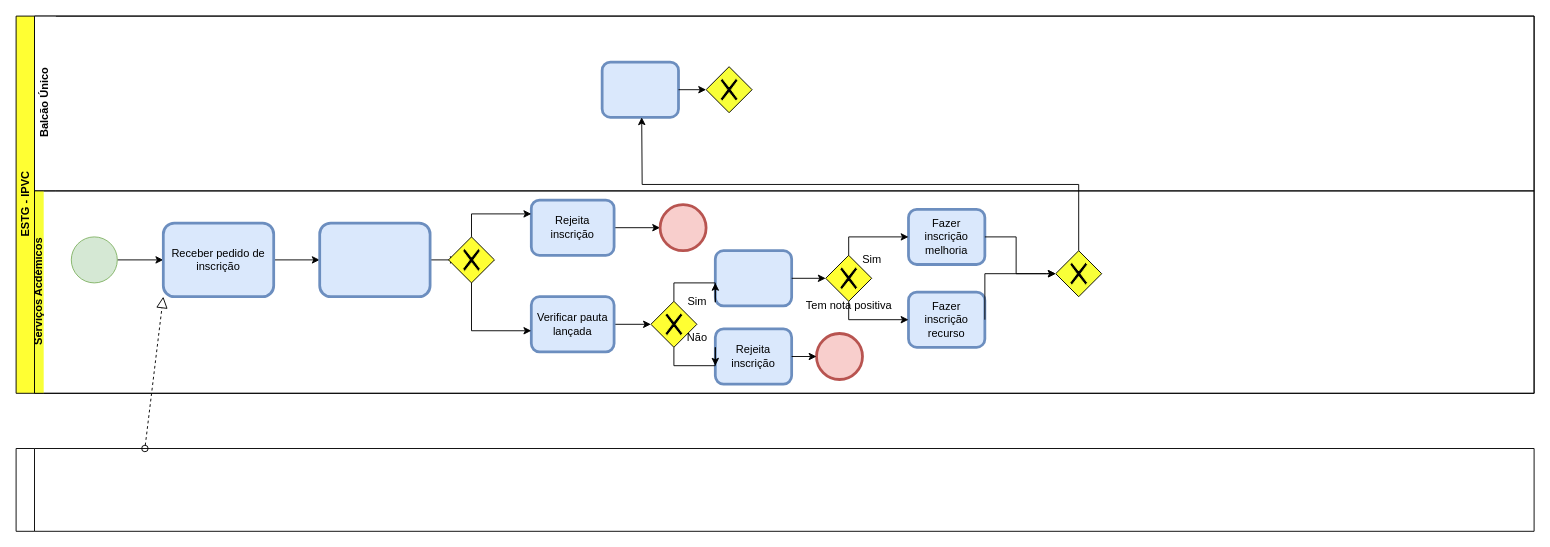
This 1550x547 diagram has some shape labels left out. Here are the shapes that lost their labels. From the top down, the centre of each, then its label:
At point 639,89: "Verifica se é bolseiro".
At point 374,259: "Verificar dados do aluno".
At point 753,278: "Verificar nota aluno".
At point 774,489: "ALUNOS".
